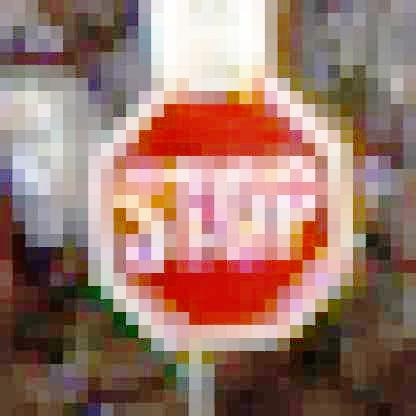Stop Sign: (84, 78, 354, 350)
